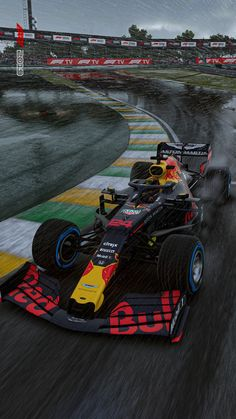car: (1, 140, 232, 342)
